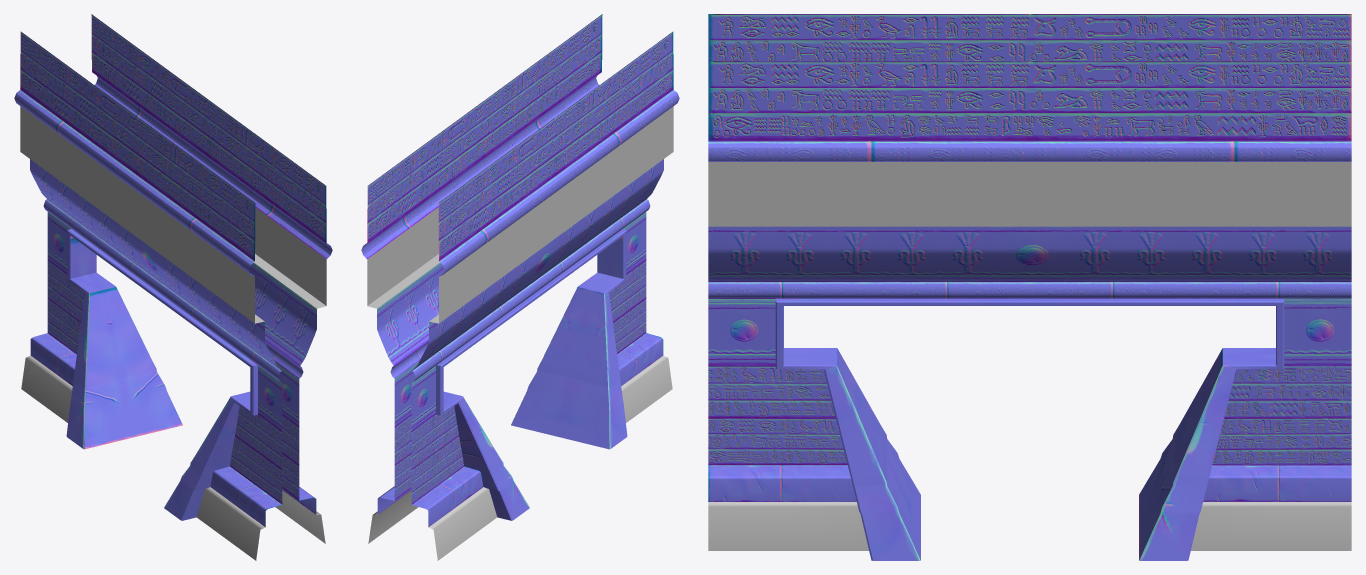
File: DoorWay.fbx
3 views of the same model, side by side, from view 1: azimuth 30°, elevation 25°; view 2: azimuth 150°, elevation 25°; view 3: azimuth 270°, elevation 25° (orthographic). The views are drawn at different scales.
Parts seen in each view (by area): view 1: RoomWallFlat_Large4; view 2: RoomWallFlat_Large4; view 3: RoomWallFlat_Large4.
Part boxes in pixels (x1,y1,x2,y2): RoomWallFlat_Large4: [14, 14, 332, 560]; RoomWallFlat_Large4: [361, 14, 679, 560]; RoomWallFlat_Large4: [708, 14, 1351, 560].
Bounding box in the file's own units: 7.6 × 26.12 × 31.06.
